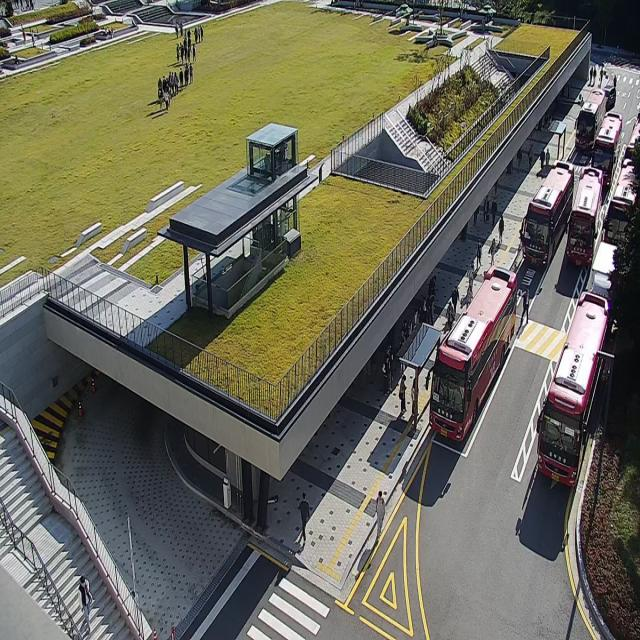queue: (415, 276, 437, 428)
